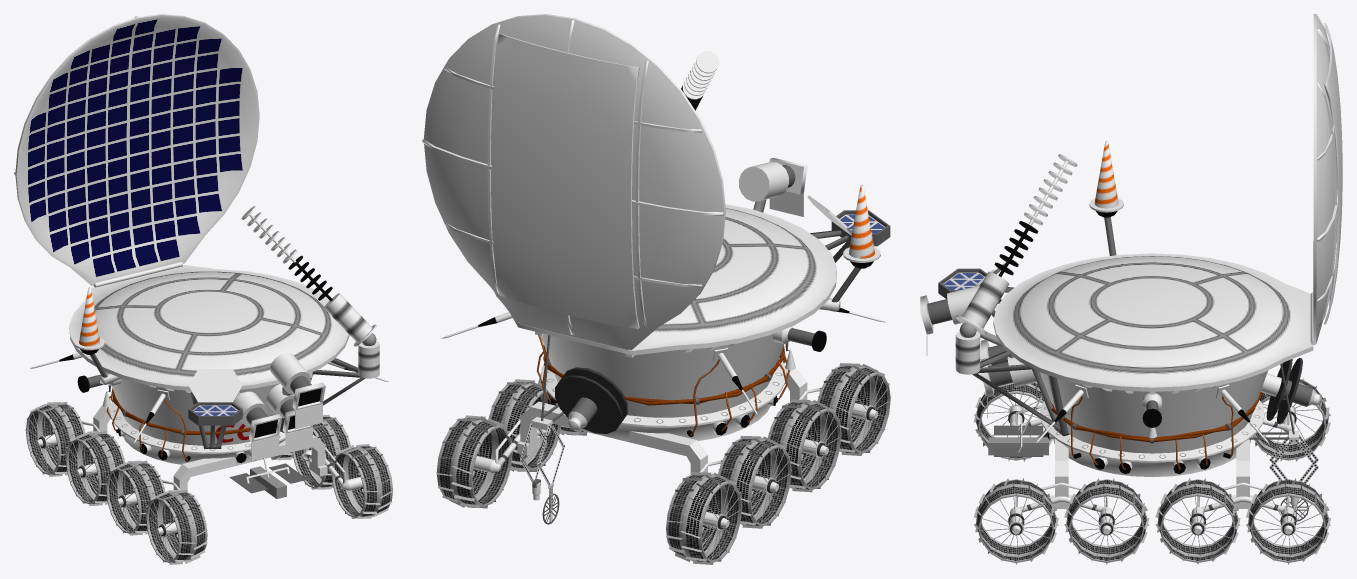
File: moonrider.glb
The picture shows the model from 3 angles, left to right: view 1: azimuth 30°, elevation 25°; view 2: azimuth 150°, elevation 25°; view 3: azimuth 270°, elevation 25°; orthographic projection. The views are drawn at different scales.
Visible parts, largest first — view 1: Lunohod_2.001; view 2: Lunohod_2.001; view 3: Lunohod_2.001.
Part boxes in pixels (<box>): Lunohod_2.001: <box>14,14,393,564</box>; Lunohod_2.001: <box>422,14,891,564</box>; Lunohod_2.001: <box>920,14,1342,564</box>.
Size of the model in its own units: 0.2597 by 0.3736 by 0.2982.
1 material, 1 textured.
